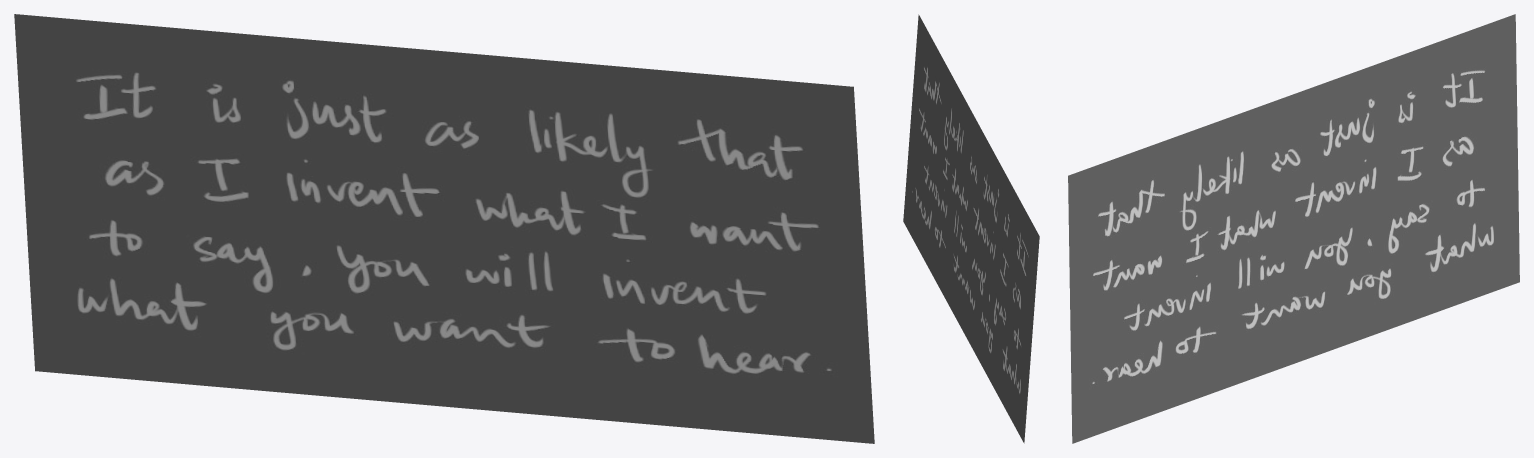
3 renders of one model, left to right at view 1: azimuth 30°, elevation 25°; view 2: azimuth 150°, elevation 25°; view 3: azimuth 270°, elevation 25°, orthographic. The views are drawn at different scales.
Parts seen in each view (by area): view 1: Plane.008; view 2: Plane.008; view 3: Plane.008.
Boxes of the visible parts, x1,y1,x2,y2 form: Plane.008: (14, 14, 874, 443); Plane.008: (903, 14, 1039, 443); Plane.008: (1068, 14, 1519, 443).
Size of the model in its own units: 1.9 by 1.3 by 1.9.
Materials: 1 (1 with a texture image).
